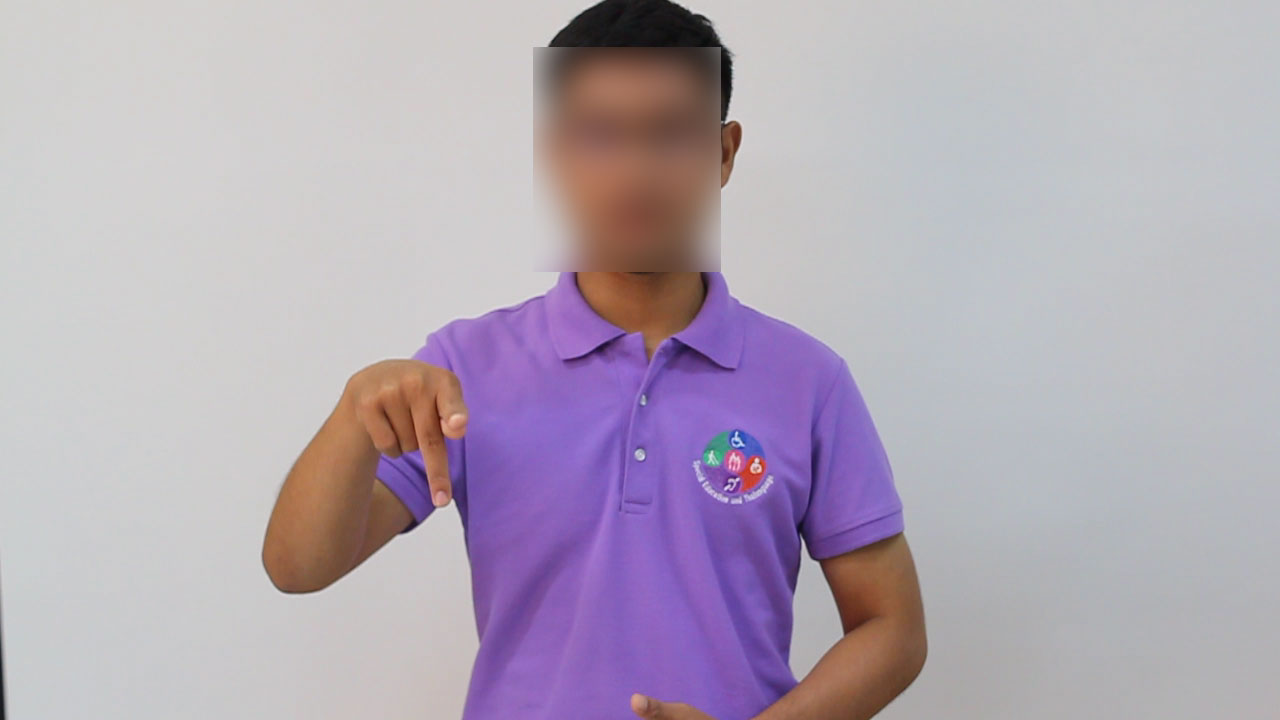por: (324, 332, 477, 520)
